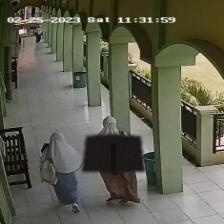Cadar_Niqab: (82, 116, 144, 171)
